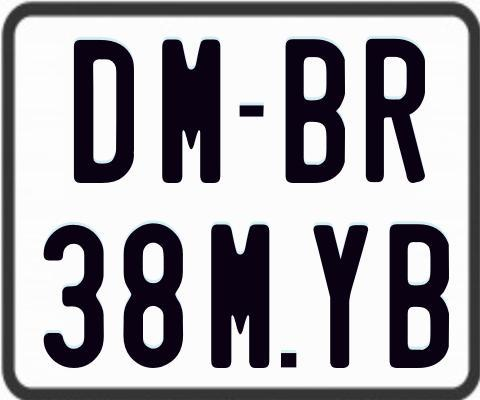3: (41, 225, 102, 368)
8: (123, 223, 187, 368)
B: (286, 38, 349, 188), (390, 223, 449, 373)
D: (72, 40, 137, 183)
M: (210, 221, 273, 366), (160, 37, 219, 187)
R: (363, 36, 426, 181)
Y: (312, 222, 366, 370)
